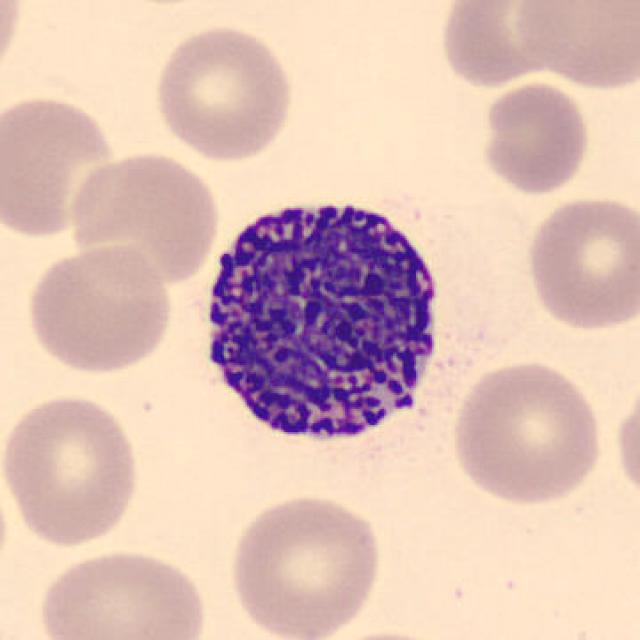Basophil: (189, 178, 455, 471)
RBC: (224, 488, 388, 640), (446, 356, 606, 508), (0, 388, 146, 550), (66, 146, 224, 289), (21, 238, 178, 377), (149, 21, 299, 164), (0, 89, 124, 241), (34, 545, 212, 640), (523, 190, 638, 335), (476, 80, 594, 198), (436, 0, 572, 90), (510, 0, 640, 92), (612, 376, 638, 510), (0, 2, 25, 88)
